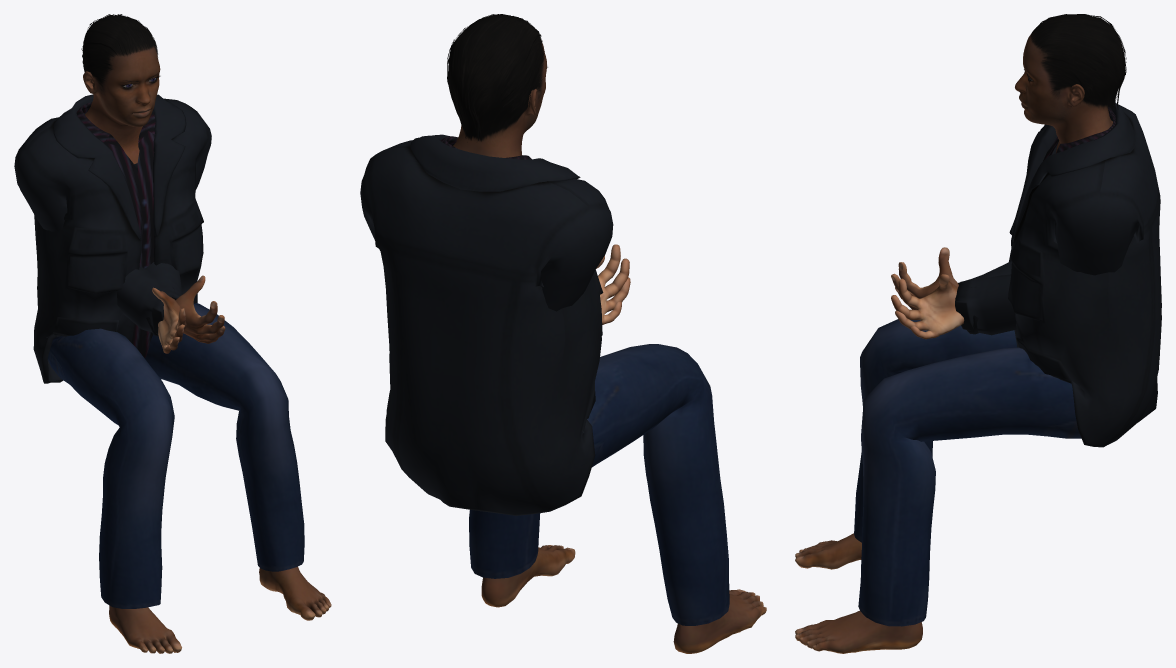
The model's file is congregant_m2.glb.
3 renders of one model, left to right at view 1: azimuth 30°, elevation 25°; view 2: azimuth 150°, elevation 25°; view 3: azimuth 270°, elevation 25°, orthographic. The views are drawn at different scales.
Visible parts, largest first — view 1: congregant_m2.male_casualsuit05, congregant_m2.body, congregant_m2.short04; view 2: congregant_m2.male_casualsuit05, congregant_m2.short04, congregant_m2.body; view 3: congregant_m2.male_casualsuit05, congregant_m2.body, congregant_m2.short04.
Part boxes in pixels (x1,y1,x2,y2): congregant_m2.male_casualsuit05: (14, 94, 304, 608); congregant_m2.body: (83, 45, 331, 653); congregant_m2.short04: (81, 14, 157, 93); congregant_m2.male_casualsuit05: (360, 134, 729, 625); congregant_m2.short04: (447, 14, 544, 142); congregant_m2.body: (453, 42, 766, 653); congregant_m2.male_casualsuit05: (854, 102, 1161, 626); congregant_m2.body: (795, 33, 1112, 653); congregant_m2.short04: (1030, 14, 1126, 109).
Size of the model in its own units: 0.5103 by 1.33 by 0.7536.
Materials: 6 (6 with a texture image).
